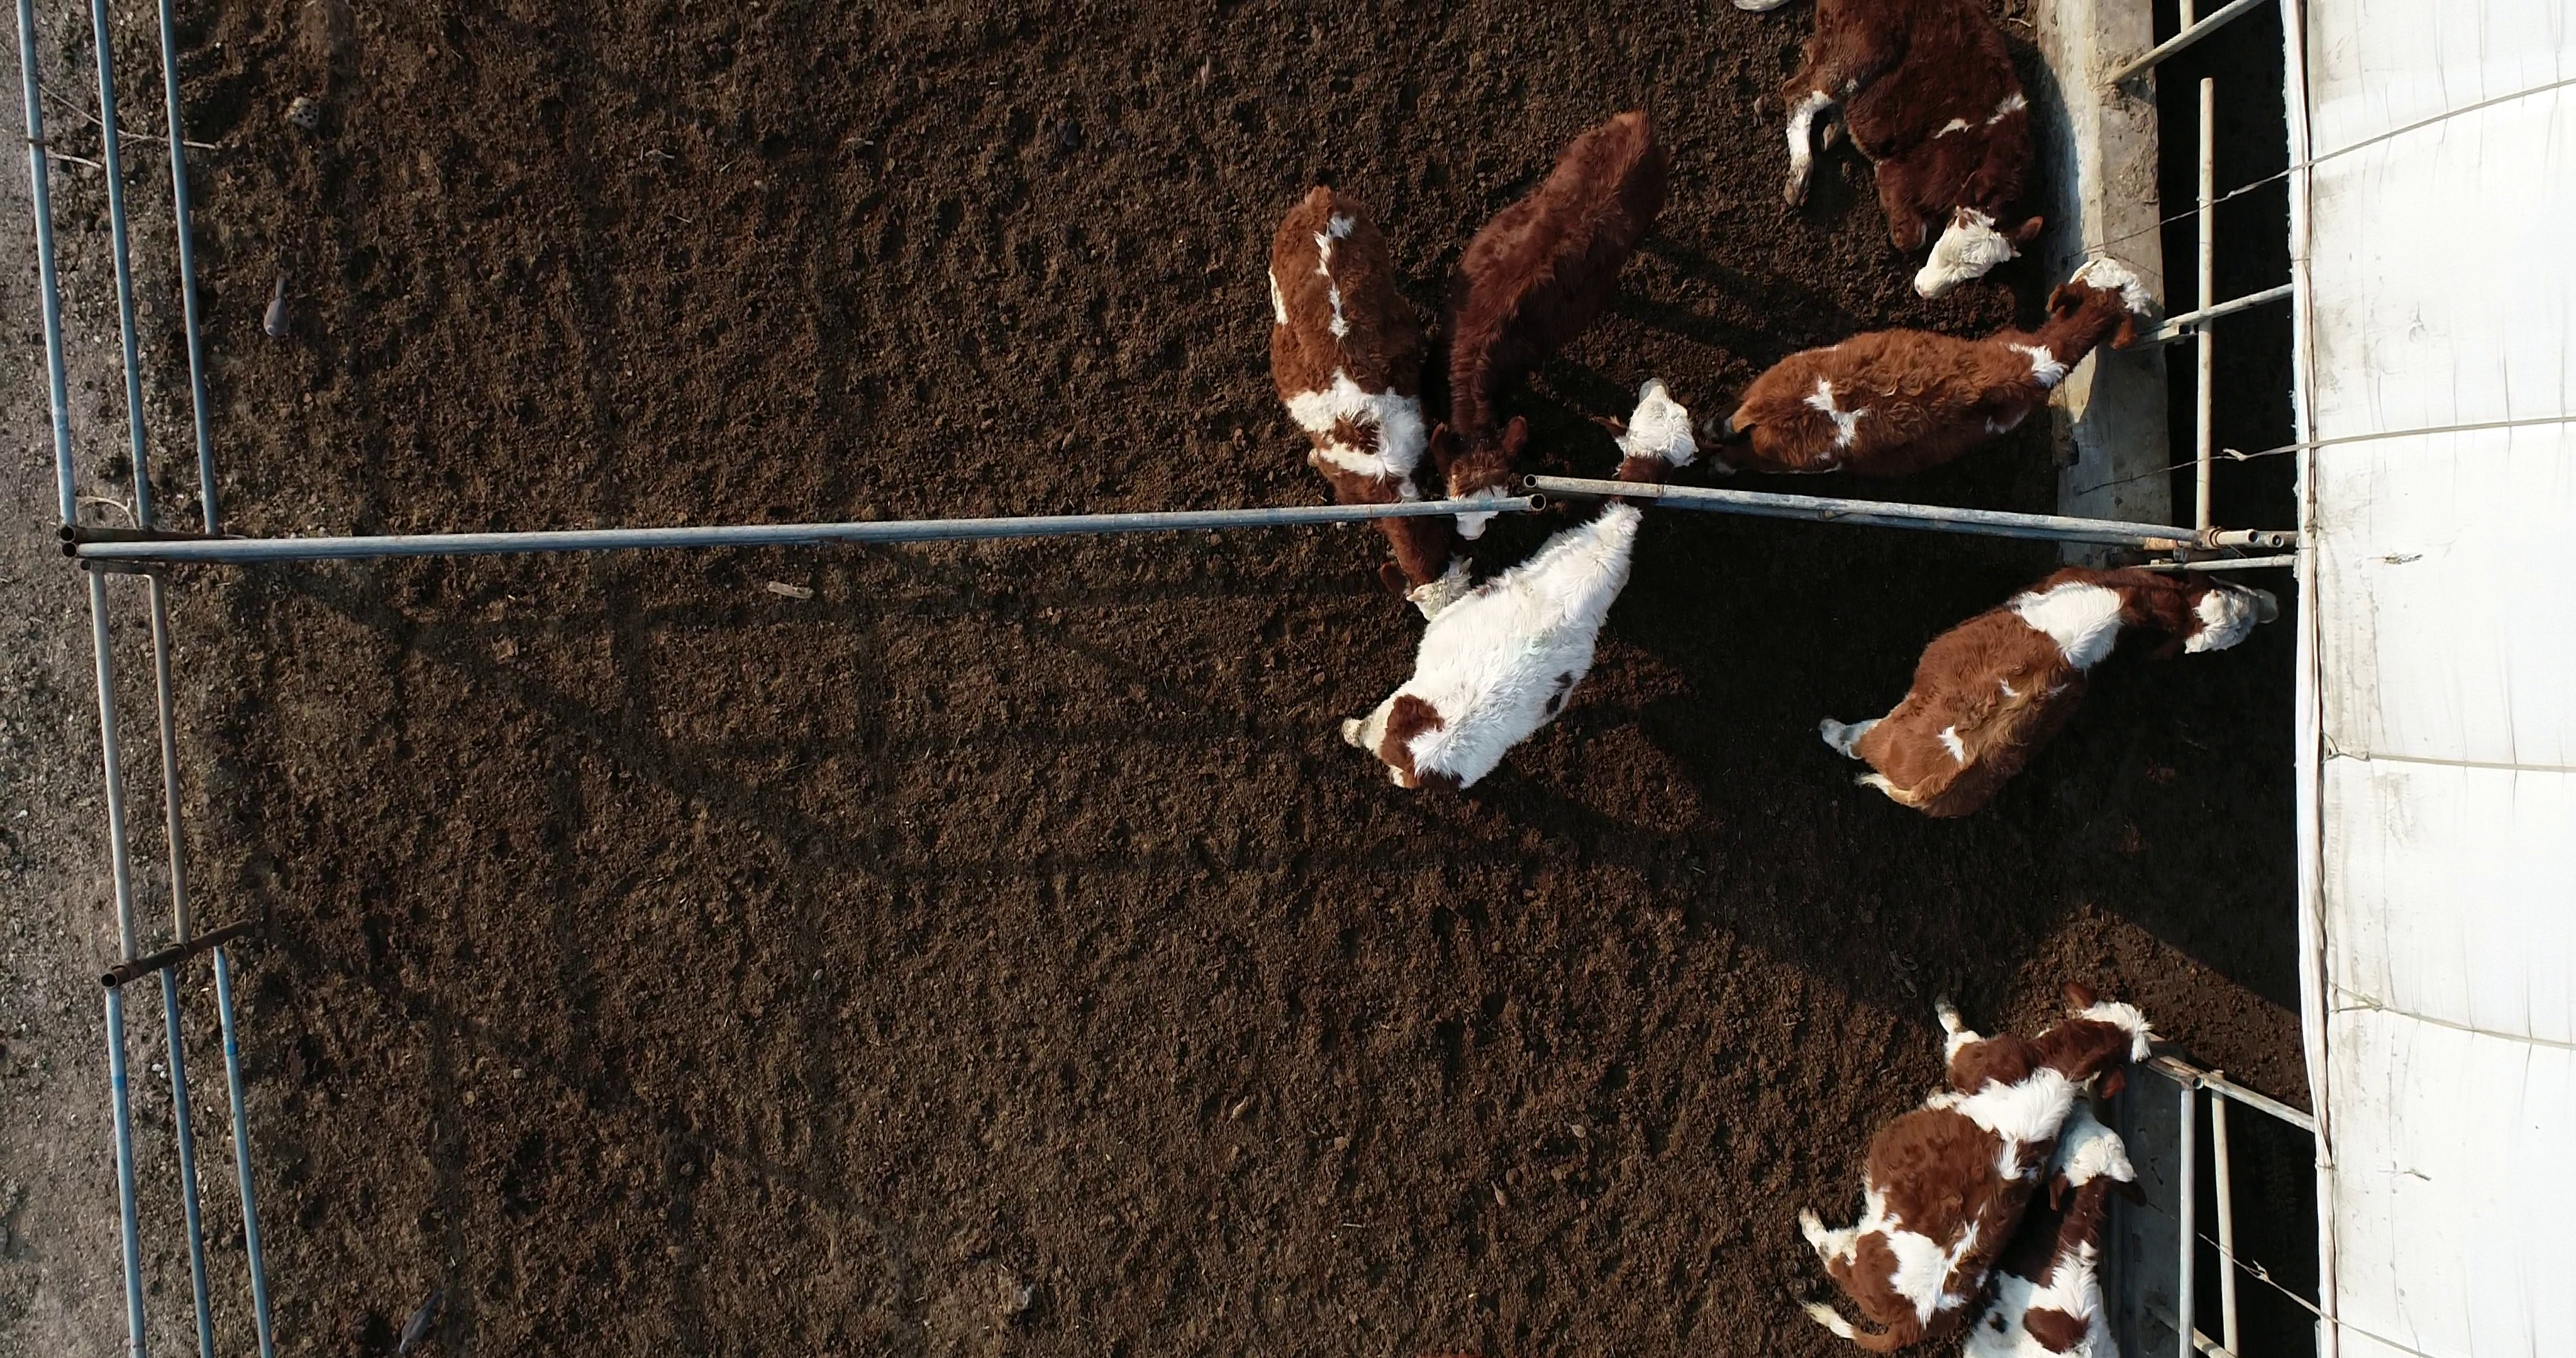cattle: (1336, 375, 1722, 803), (1791, 978, 2162, 1355), (1811, 552, 2283, 828), (1424, 99, 1676, 545), (1702, 254, 2157, 482), (1264, 182, 1481, 627)
